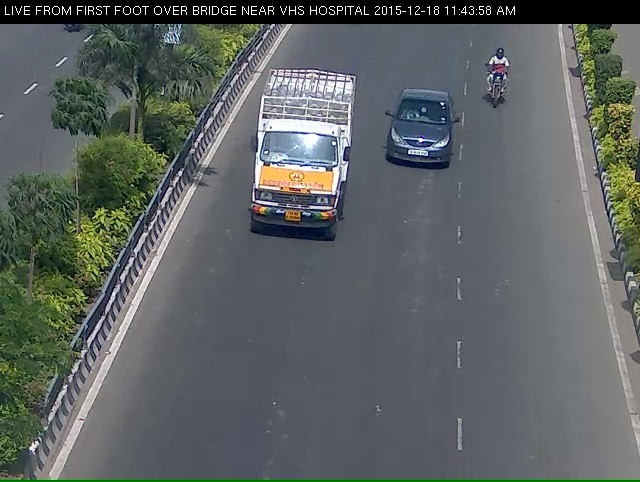Car: (234, 66, 359, 267), (373, 85, 468, 197)
Person: (478, 52, 518, 116)
